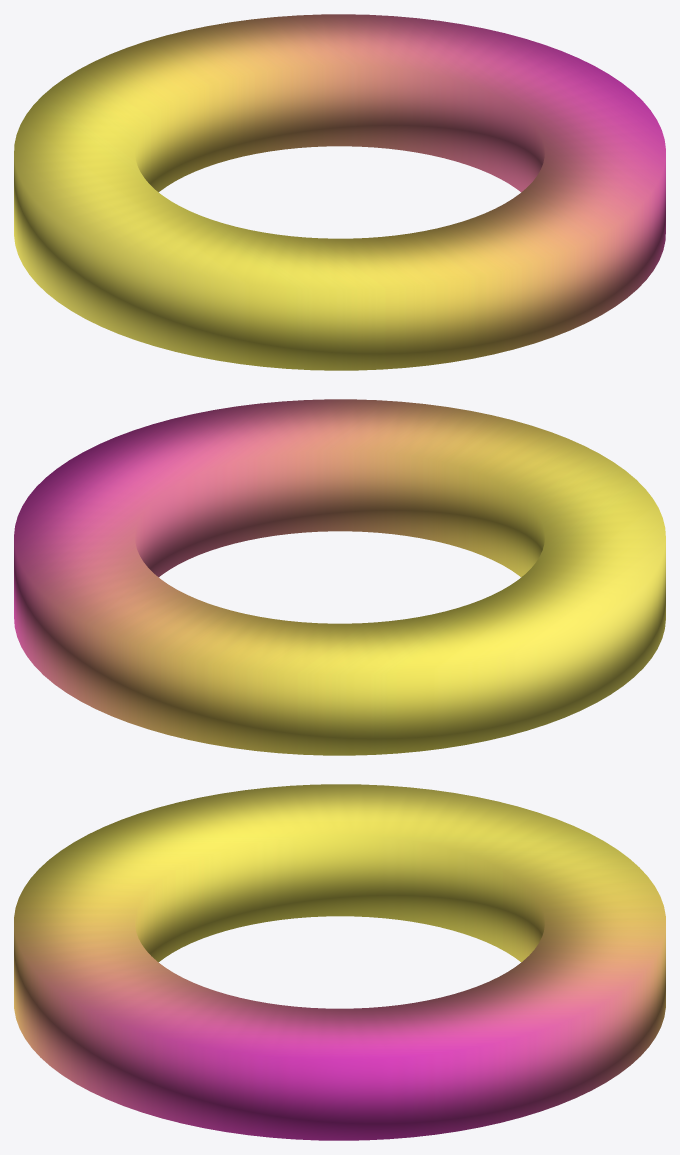
Rendered from tor.obj.
The picture shows the model from 3 angles, top to bottom: view 1: azimuth 30°, elevation 25°; view 2: azimuth 150°, elevation 25°; view 3: azimuth 270°, elevation 25°; orthographic projection.
Parts seen in each view (by area): view 1: Tube004; view 2: Tube004; view 3: Tube004.
Boxes of the visible parts, left/top/right/bottom form: Tube004: left=14, top=14, right=665, bottom=370; Tube004: left=14, top=399, right=665, bottom=755; Tube004: left=14, top=784, right=665, bottom=1140.
Bounding box in the file's own units: 187 × 25.63 × 187.
